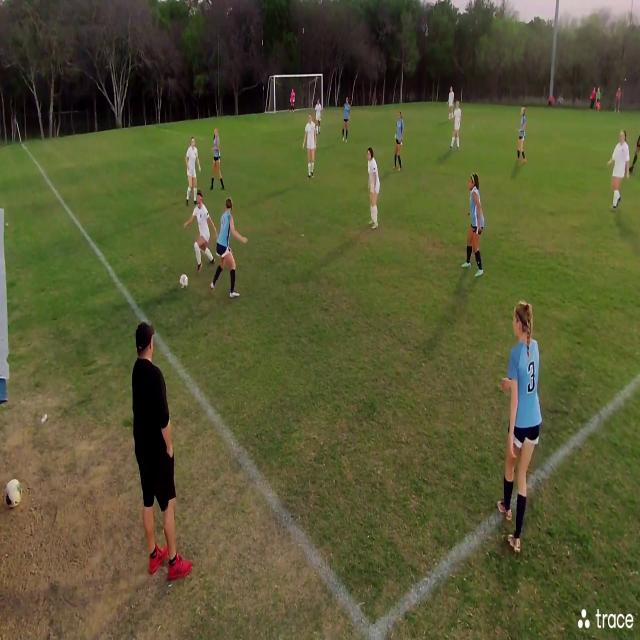Ball: (178, 272, 190, 292)
GoalKeeper: (290, 88, 296, 113)
TEAM 1: (499, 298, 540, 563), (213, 193, 240, 305), (463, 170, 487, 280), (211, 128, 228, 192), (394, 110, 405, 172), (518, 104, 529, 166), (342, 97, 350, 144)
TEAM 2: (609, 129, 628, 220), (193, 191, 212, 277), (365, 146, 380, 230), (302, 111, 314, 180), (186, 135, 198, 203), (453, 100, 462, 150), (315, 97, 321, 136), (448, 87, 454, 121)
